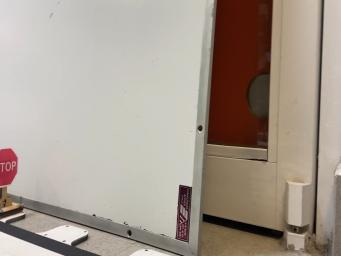stop: (0, 147, 23, 218), (0, 147, 23, 218), (0, 147, 23, 218), (0, 147, 23, 218), (0, 147, 23, 218), (0, 147, 23, 218)
street: (0, 221, 99, 256), (0, 221, 99, 256), (0, 221, 99, 256), (0, 221, 99, 256), (0, 221, 99, 256), (0, 221, 99, 256), (0, 231, 62, 256), (0, 231, 62, 256), (0, 231, 62, 256), (0, 231, 62, 256), (0, 231, 62, 256), (0, 231, 62, 256)
